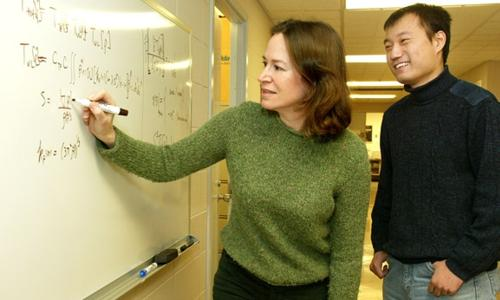person: (84, 18, 370, 299)
